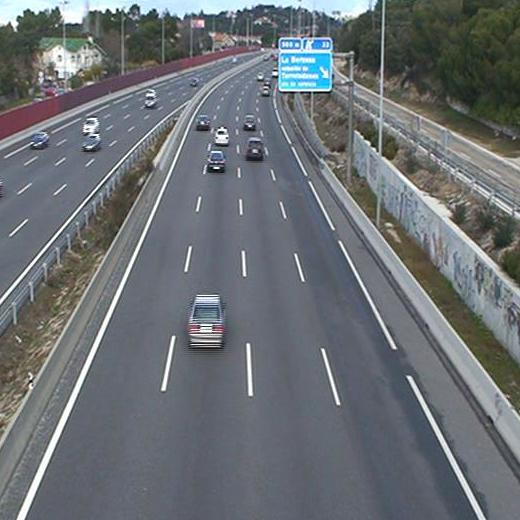car: (187, 293, 224, 346), (247, 137, 266, 159), (208, 150, 225, 171), (213, 124, 231, 143), (195, 113, 209, 129), (242, 116, 255, 129)
